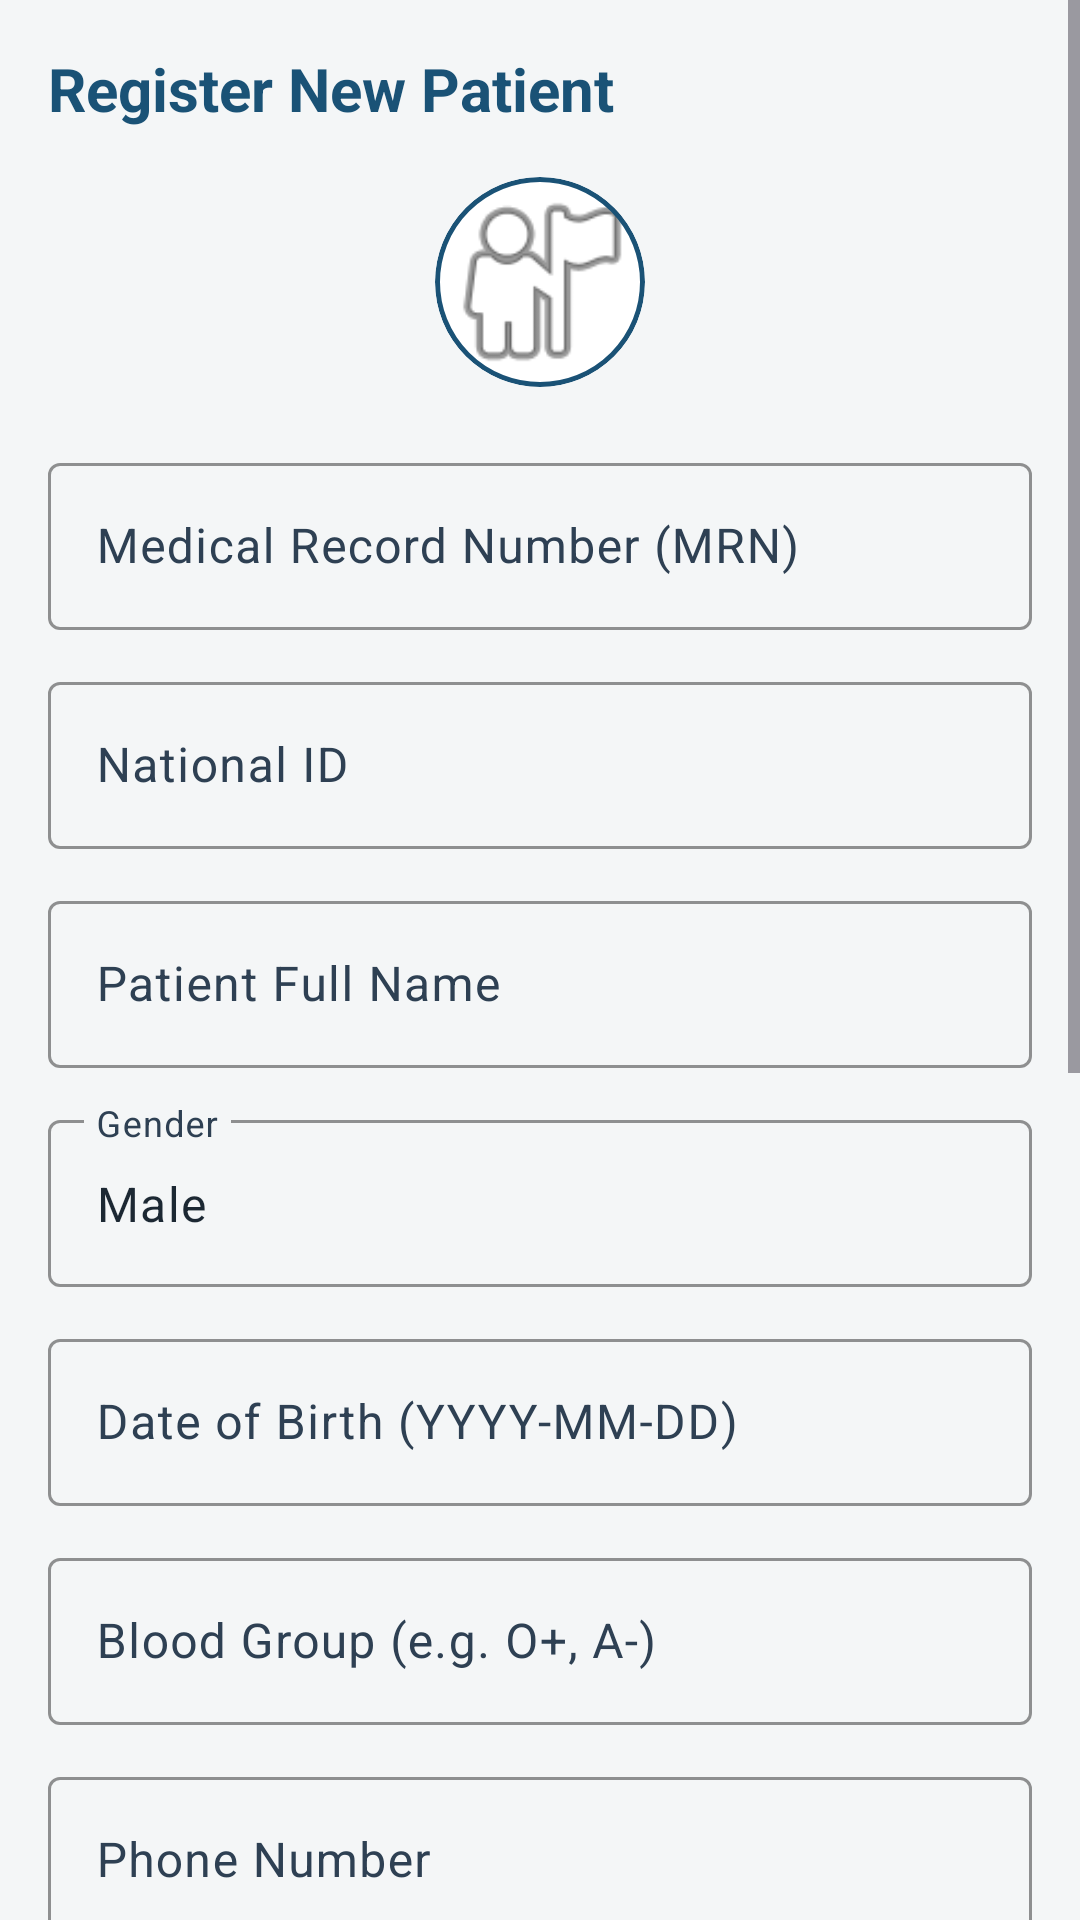

Point at icon controls on the screen. Image size 1080 × 1920, points as point (x, y).
Patient photo preview: point (540, 282)
